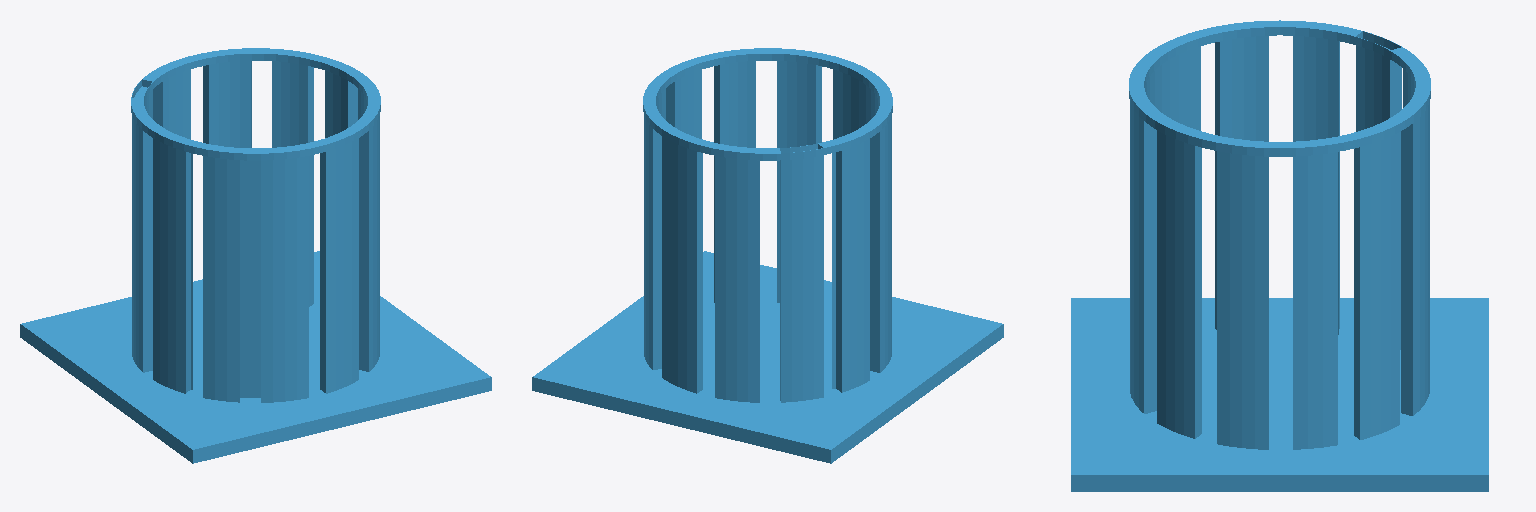
The robot description file, URDF, robot "rjje_arm":
<?xml version="1.0" ?>
<!-- =================================================================================== -->
<!-- |    This document was autogenerated by xacro from box.xacro                      | -->
<!-- |    EDITING THIS FILE BY HAND IS NOT RECOMMENDED                                 | -->
<!-- =================================================================================== -->
<robot name="rjje_arm">
  <!-- Instances -->
  <link name="world">
  </link>
  <link name="base_link">
    <inertial>
      <mass value="157.633"/>
      <origin rpy="0.0 0.0 0.0" xyz="0.0 0.0 0.0"/>
      <inertia ixx="13.235" ixy="0" ixz="0" iyy="13.235" iyz="0" izz="9.655"/>
    </inertial>
    <collision>
      <origin rpy="0.0 0.0 0.0" xyz="0.0 0.0 0.0"/>
      <geometry>
        <mesh filename="package://rjje_arm/meshes/cup_holder.stl" scale="0.1 0.1 0.1"/>
      </geometry>
    </collision>
    <visual>
      <origin rpy="0.0 0.0 0.0" xyz="0.0 0.0 0.0"/>
      <geometry>
        <mesh filename="package://rjje_arm/meshes/cup_holder.stl" scale="0.1 0.1 0.1"/>
      </geometry>
      <material name="light_black"/>
    </visual>
  </link>
  <joint name="$base_link_world" type="revolute">
    <axis xyz="0 0 1"/>
    <limit effort="1000" lower="0" upper="0.5" velocity="0.5"/>
    <origin rpy="0 0 0" xyz="0 0 0.0"/>
    <parent link="world"/>
    <child link="base_link"/>
  </joint>
</robot>

--- What the picture shows (computed from the rendered views, not written in the file) ---
Views: 3 orthographic renders of the robot side by side, from view 1: azimuth 30°, elevation 25°; view 2: azimuth 150°, elevation 25°; view 3: azimuth 270°, elevation 25°.
Robot: rjje_arm — 2 links, 1 joints (1 revolute); root link world; default pose: every joint at zero.
Visible links, largest first — view 1: base_link; view 2: base_link; view 3: base_link.
Boxes of the visible links, x1,y1,x2,y2 form: base_link: (20, 48, 491, 463); base_link: (532, 48, 1003, 463); base_link: (1071, 20, 1488, 491).
Bounding box of the posed robot: 1.15 × 1.15 × 0.9652 m (x, y, z).
1 mesh visuals loaded from 1 distinct referenced files (1 ASCII STL).
